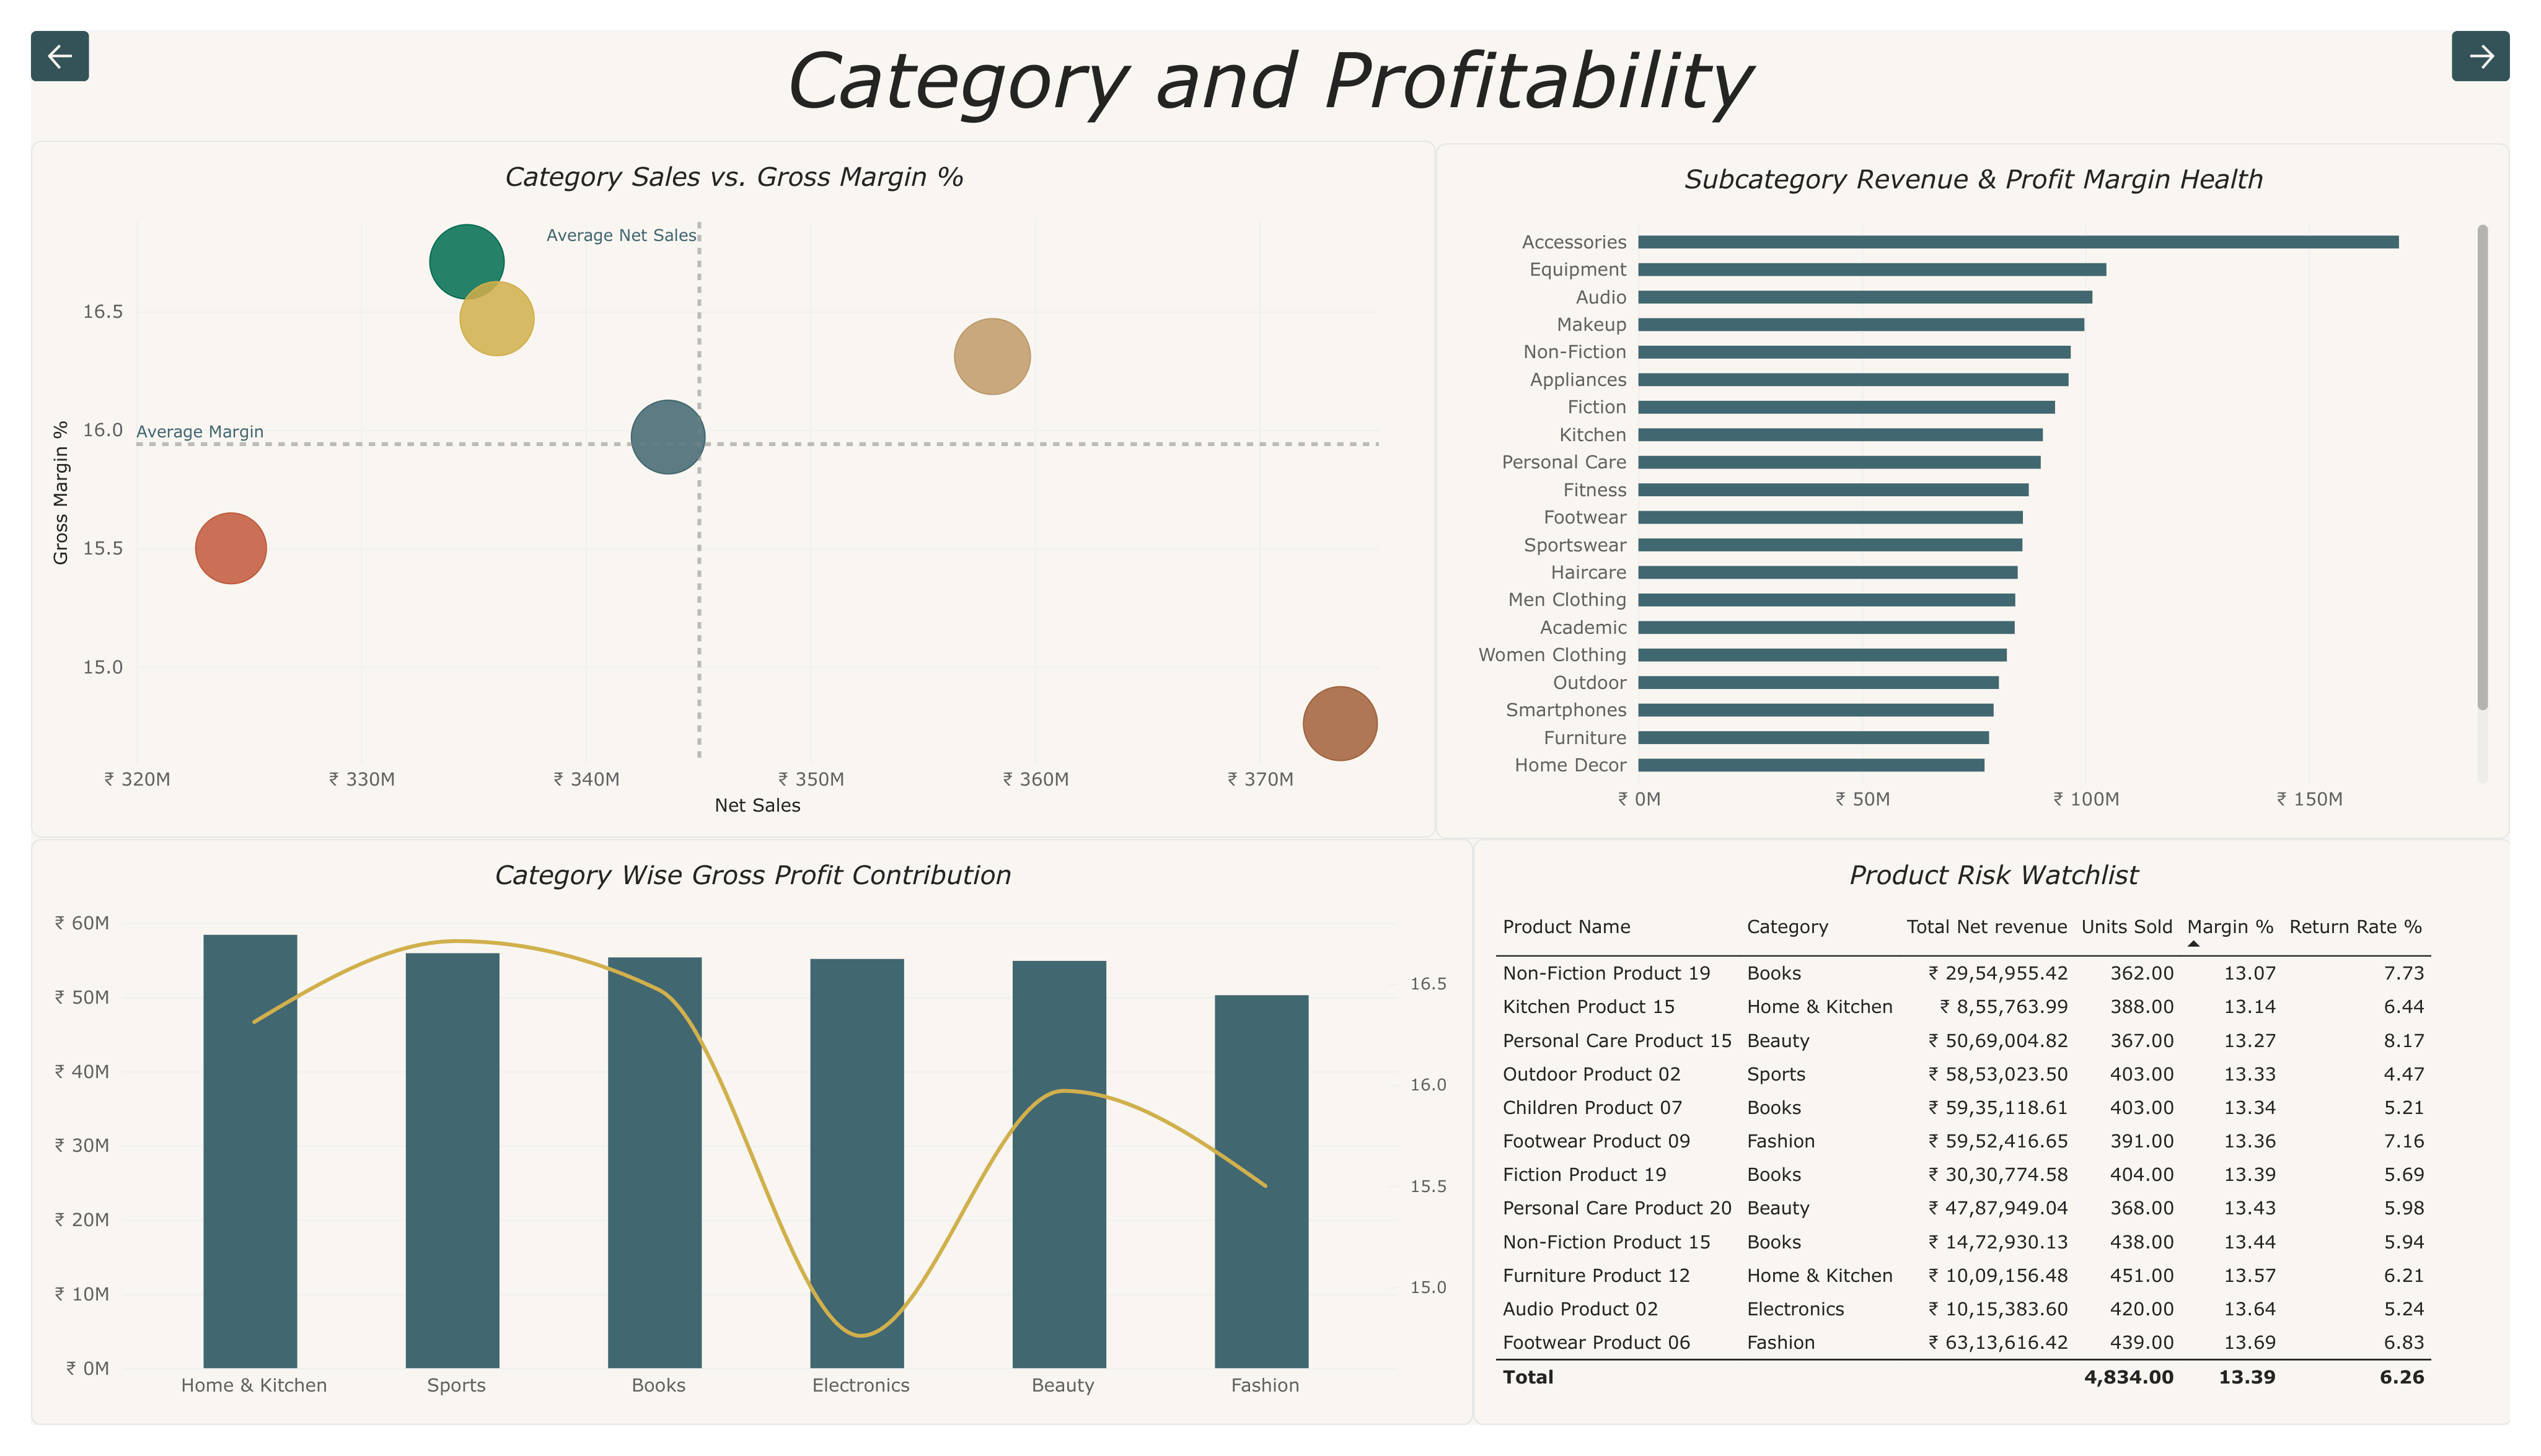

Layout of this report page (visuals, bound fields, positions):
{"tool":"powerbi","page":{"name":"Category & Profitability","canvas":[1920,1080],"ordinal":1},"visuals":[{"type":"scatterChart","title":"Category Sales vs. Gross Margin %","fields":{"Series":["shopsphere vw_category_performance.category"],"Size":["Sum(shopsphere vw_category_performance.gross_profit)"],"X":["shopsphere vw_category_performance.net_sales"],"Y":["shopsphere vw_category_performance.gross_margin_pct"]},"box":[0,85.5,1087.6,539.3],"z":0},{"type":"lineClusteredColumnComboChart","title":"Category Wise Gross Profit Contribution","fields":{"Category":["shopsphere vw_category_performance.category"],"Y":["Sum(shopsphere vw_category_performance.Gross Profit)"],"Y2":["Sum(shopsphere vw_category_performance.gross_margin_pct)"]},"box":[0,626.1,1116.6,454.2],"z":1000},{"type":"clusteredBarChart","title":"Subcategory Revenue & Profit Margin Health","fields":{"Category":["shopsphere vw_product_performance.subcategory"],"Y":["Sum(shopsphere vw_product_performance.total_net_revenue)"]},"box":[1087.6,86.9,832.4,539.3],"z":2000},{"type":"tableEx","title":"Product Risk Watchlist","fields":{"Values":["shopsphere vw_product_performance.product_name","shopsphere vw_product_performance.category","shopsphere vw_product_performance.total_net_revenue","Sum(shopsphere vw_product_performance.total_units_sold)","Avg(shopsphere vw_product_performance.margin_percentage)","Avg(shopsphere vw_product_performance.return_rate_pct)"]},"box":[1116.6,626.1,805.3,454.2],"z":3000},{"type":"textbox","box":[0,0,1920.4,86],"z":4000},{"type":"actionButton","box":[0,0,45,39],"z":5000},{"type":"actionButton","box":[1874.8,0,45,39],"z":6000}]}

Visuals, with their boxes on the page's 1920x1080 design canvas (x1, y1, x2, y2). These are canvas units, not pixel positions in the 2541x1456 screenshot, which may show the page scaled, cropped or inside an application window:
"Category Sales vs. Gross Margin %" scatterChart: 0, 86, 1088, 625
"Category Wise Gross Profit Contribution" lineClusteredColumnComboChart: 0, 626, 1117, 1080
"Subcategory Revenue & Profit Margin Health" clusteredBarChart: 1088, 87, 1920, 626
"Product Risk Watchlist" tableEx: 1117, 626, 1922, 1080
textbox: 0, 0, 1920, 86
actionButton: 0, 0, 45, 39
actionButton: 1875, 0, 1920, 39
